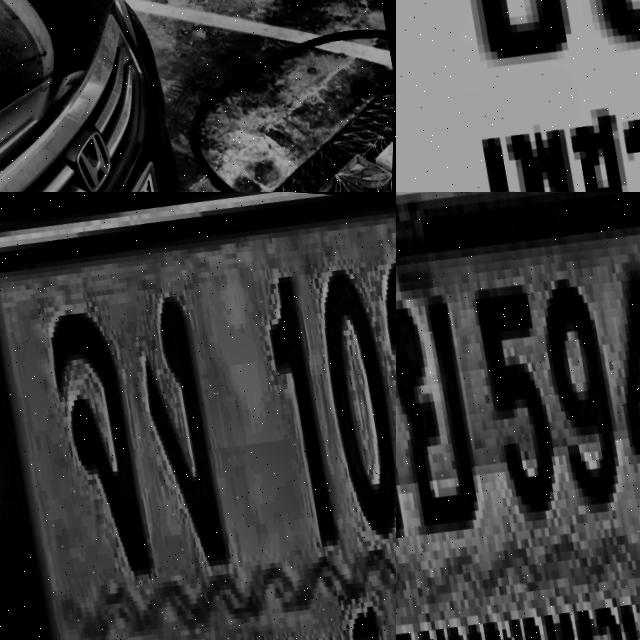license-plate: (0, 192, 396, 640), (396, 192, 640, 640), (396, 0, 640, 192), (69, 147, 187, 192)
